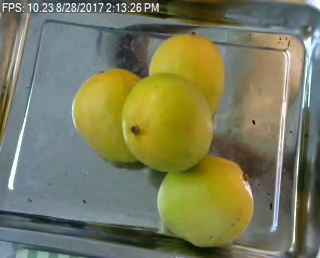Mango: (122, 73, 214, 172), (157, 158, 253, 245), (73, 69, 151, 164), (149, 35, 223, 115)
